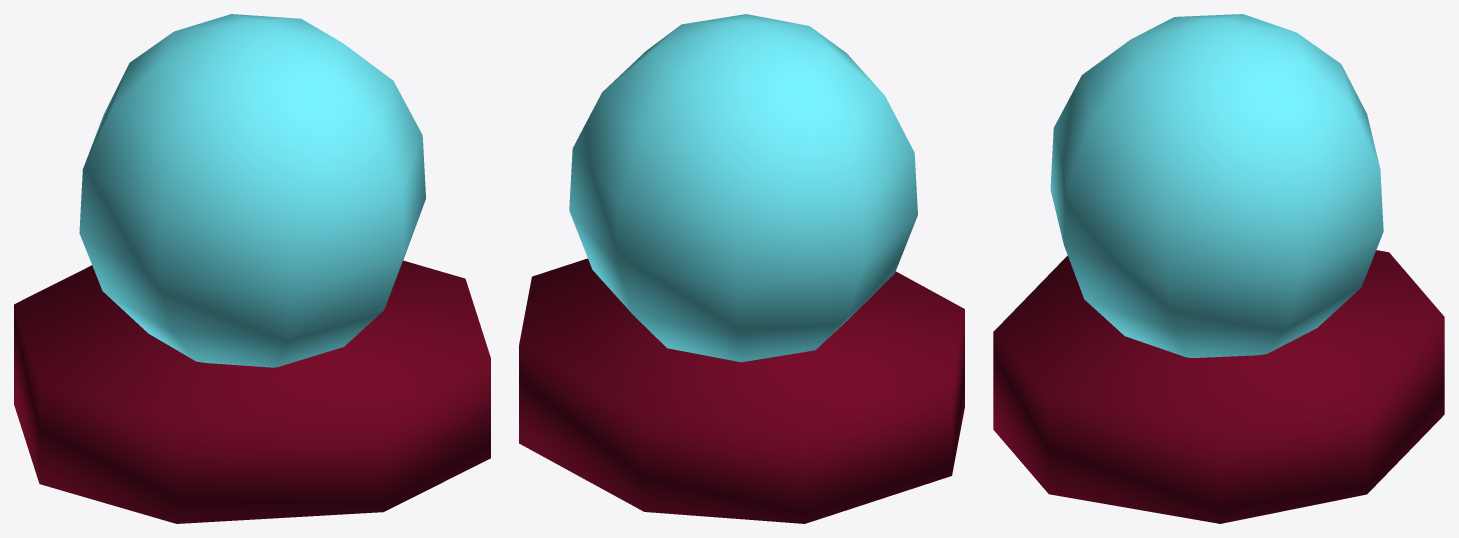
File: Snow globe - Proxy.fbx
3 views of the same model, side by side, from view 1: azimuth 30°, elevation 25°; view 2: azimuth 150°, elevation 25°; view 3: azimuth 270°, elevation 25° (orthographic). The views are drawn at different scales.
Parts seen in each view (by area): view 1: Snow globe; view 2: Snow globe; view 3: Snow globe.
Part boxes in pixels (x1,y1,x2,y2): Snow globe: [14, 14, 490, 523]; Snow globe: [519, 14, 964, 523]; Snow globe: [993, 14, 1444, 523].
Size of the model in its own units: 23.34 by 21.05 by 21.85.
